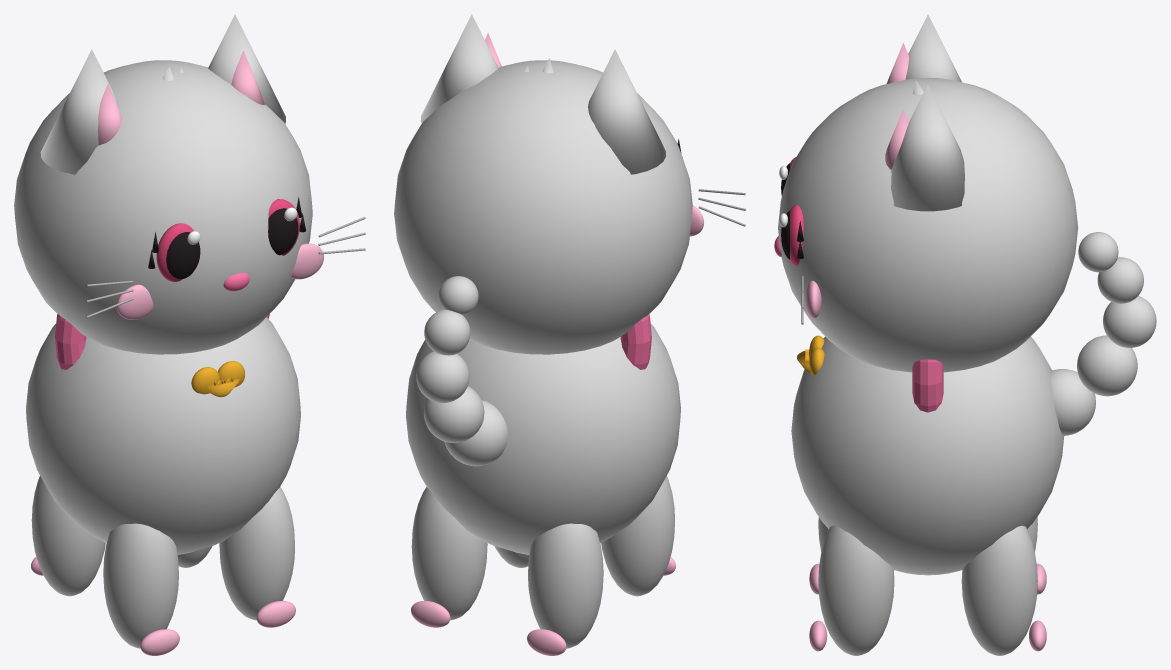
Rendered from mimi-blender.glb.
The picture shows the model from 3 angles, left to right: view 1: azimuth 30°, elevation 25°; view 2: azimuth 150°, elevation 25°; view 3: azimuth 270°, elevation 25°; orthographic projection.
Visible parts, largest first — view 1: HeadMesh, Body, LegFLMesh, LegFRMesh, LegBLMesh, Ear-1, Ear1, Pupil-1, Collar, Pupil1, EarInner-1, Cheek-1 (+6 smaller); view 2: HeadMesh, Body, LegBLMesh, LegBRMesh, Ear-1, LegFLMesh, Ear1, TailSeg2, TailSeg3, TailSeg1, TailSeg4, TailSeg5 (+3 smaller); view 3: HeadMesh, Body, LegFRMesh, LegBRMesh, Ear1, TailSeg2, TailSeg1, TailSeg3, Ear-1, TailSeg4, Collar, TailSeg5 (+2 smaller).
Part boxes in pixels (x1,y1,x2,y2): HeadMesh: (14,60,312,354); Body: (26,317,300,554); LegFLMesh: (103,523,178,648); LegFRMesh: (219,487,294,620); LegBLMesh: (31,476,105,596); Ear-1: (40,49,118,174); Ear1: (208,14,285,123); Pupil-1: (166,232,200,279); Collar: (55,314,269,369); Pupil1: (268,208,298,255); EarInner-1: (98,84,121,145); Cheek-1: (117,284,153,319); HeadMesh: (394,60,692,354); Body: (406,323,680,554); LegBLMesh: (528,523,603,648); LegBRMesh: (411,487,487,620); Ear-1: (588,49,665,174); LegFLMesh: (601,476,674,596); Ear1: (420,14,498,122); TailSeg2: (423,386,484,442); TailSeg3: (416,351,469,403); TailSeg1: (444,400,507,466); TailSeg4: (424,309,470,355); TailSeg5: (438,276,478,315); HeadMesh: (778,77,1078,372); Body: (791,336,1064,575); LegFRMesh: (818,525,894,655); LegBRMesh: (961,525,1037,655); Ear1: (891,84,964,211); TailSeg2: (1077,335,1137,396); TailSeg1: (1050,369,1095,435); TailSeg3: (1103,296,1156,347); Ear-1: (905,14,961,82); TailSeg4: (1097,257,1143,303); Collar: (912,359,943,412); TailSeg5: (1078,232,1118,272).
Bounding box in the file's own units: 0.72 × 1.42 × 0.853.
